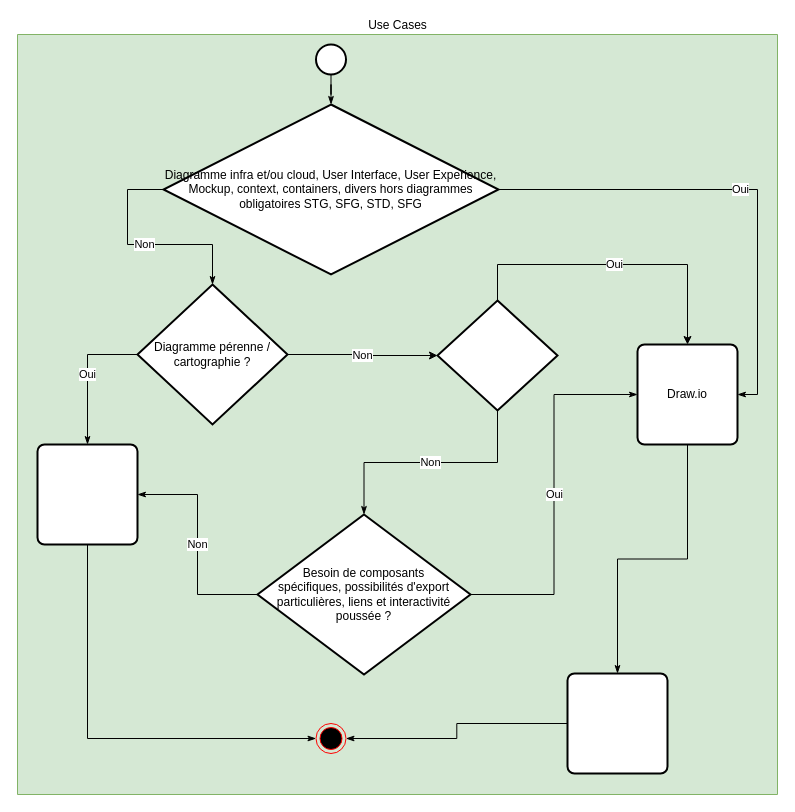
This 795x812 diagram has some shape labels left out. Each missing label, with the centre of its shape:
Magic Draw: point (87, 494)
Partenaire / destinataires sans Magic Draw ?: point (497, 355)
Publication (github, wiki): point (617, 723)
